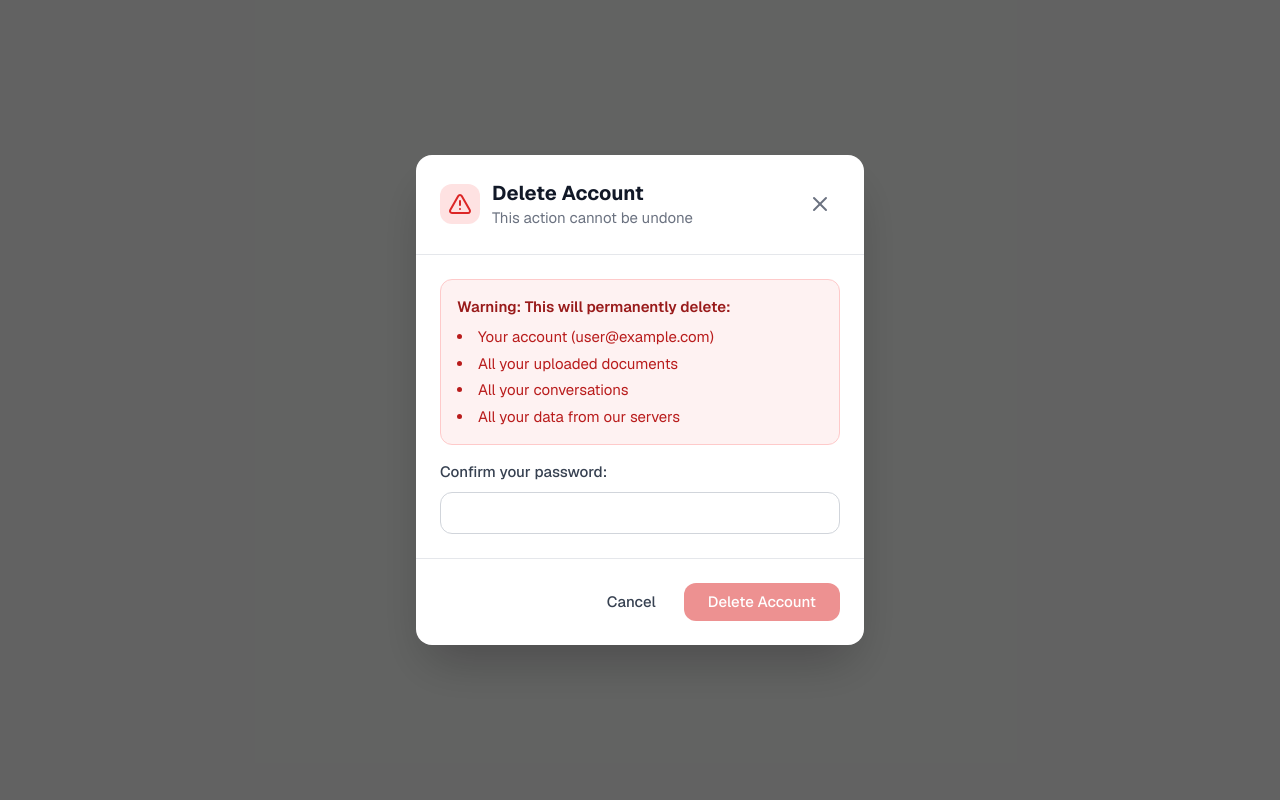
Test case: DeleteAccountModal › shows a handled credential failure without logging it
The width and height of the screenshot is (1280, 800).
Expected: the button "Delete Account" is disabled, x1=684 y1=582 x2=840 y2=621
In the password field labelled "Confirm your password:": (640, 512) x1=440 y1=492 x2=840 y2=534, type "incorrect-password"
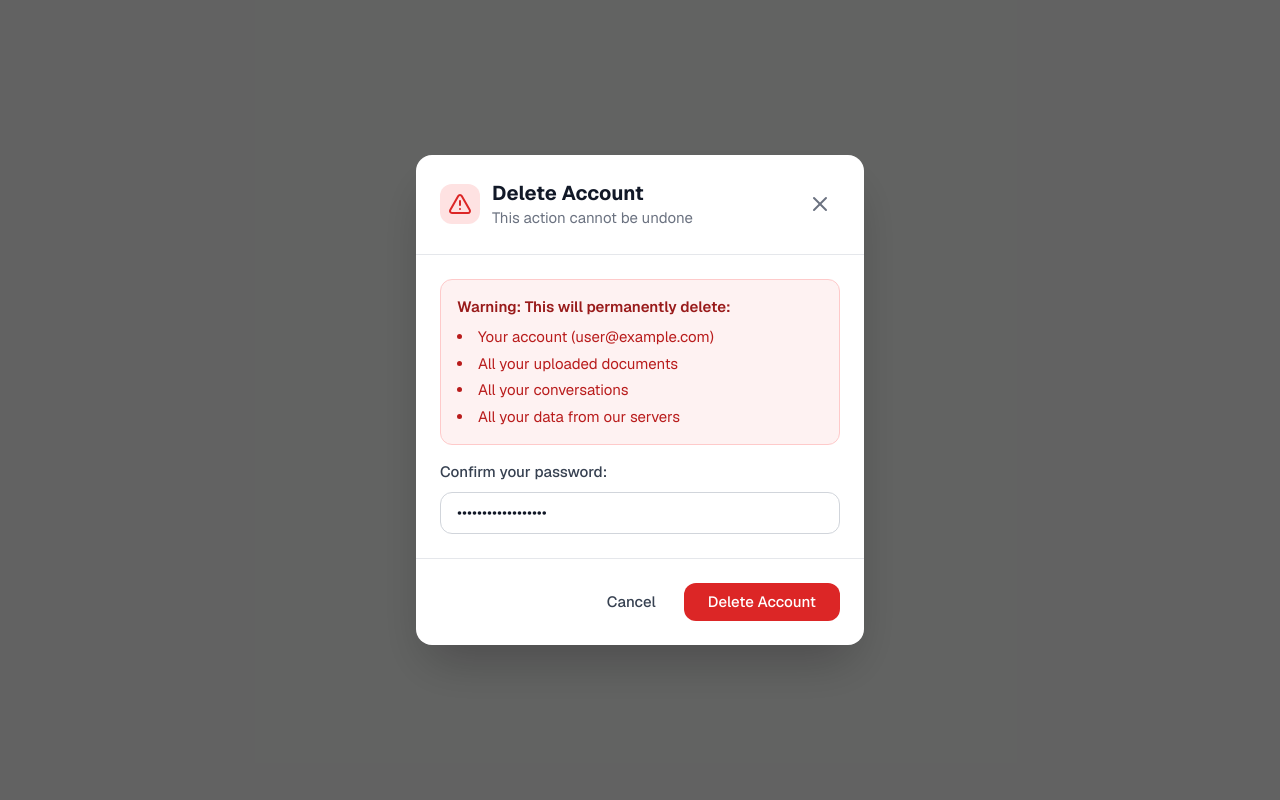
Click the button "Delete Account": (762, 602) x1=684 y1=582 x2=840 y2=621
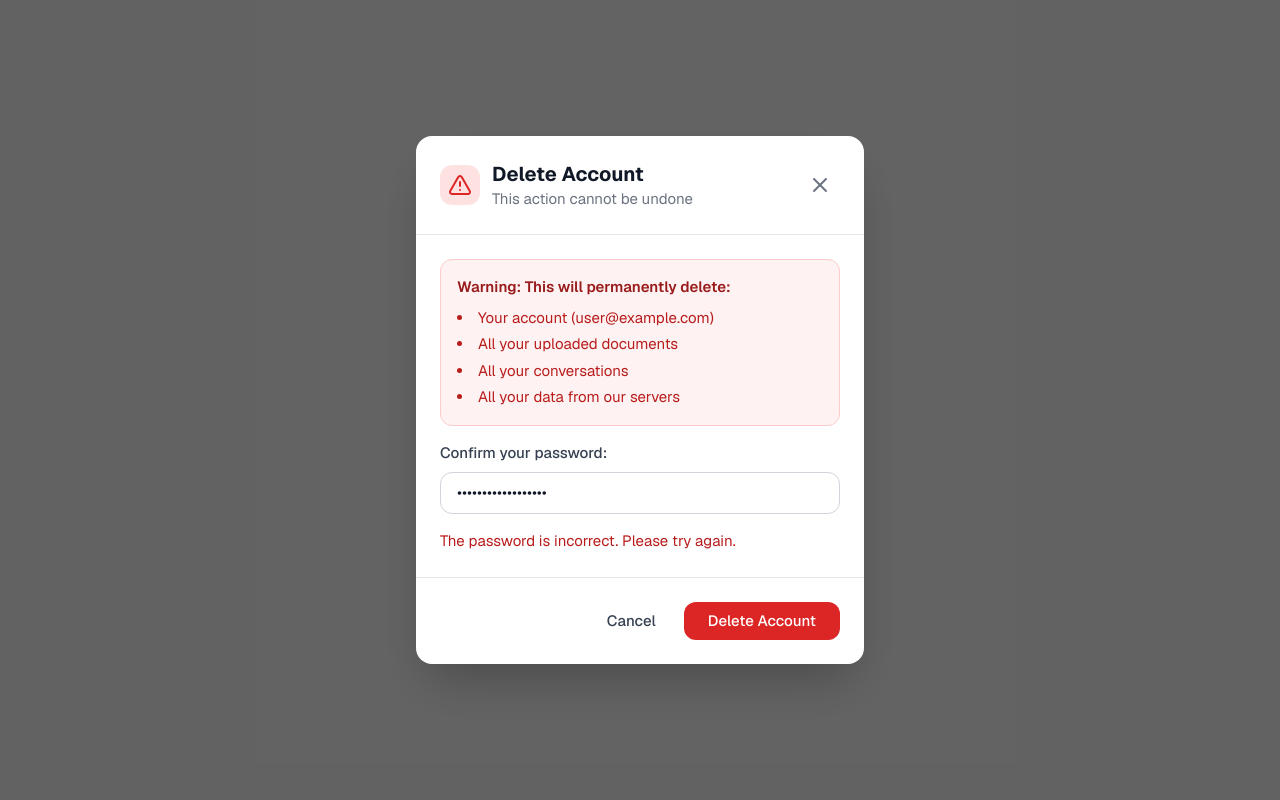
Expected: the message reads "The password is incorrect. Please try again.", x1=440 y1=531 x2=736 y2=550
